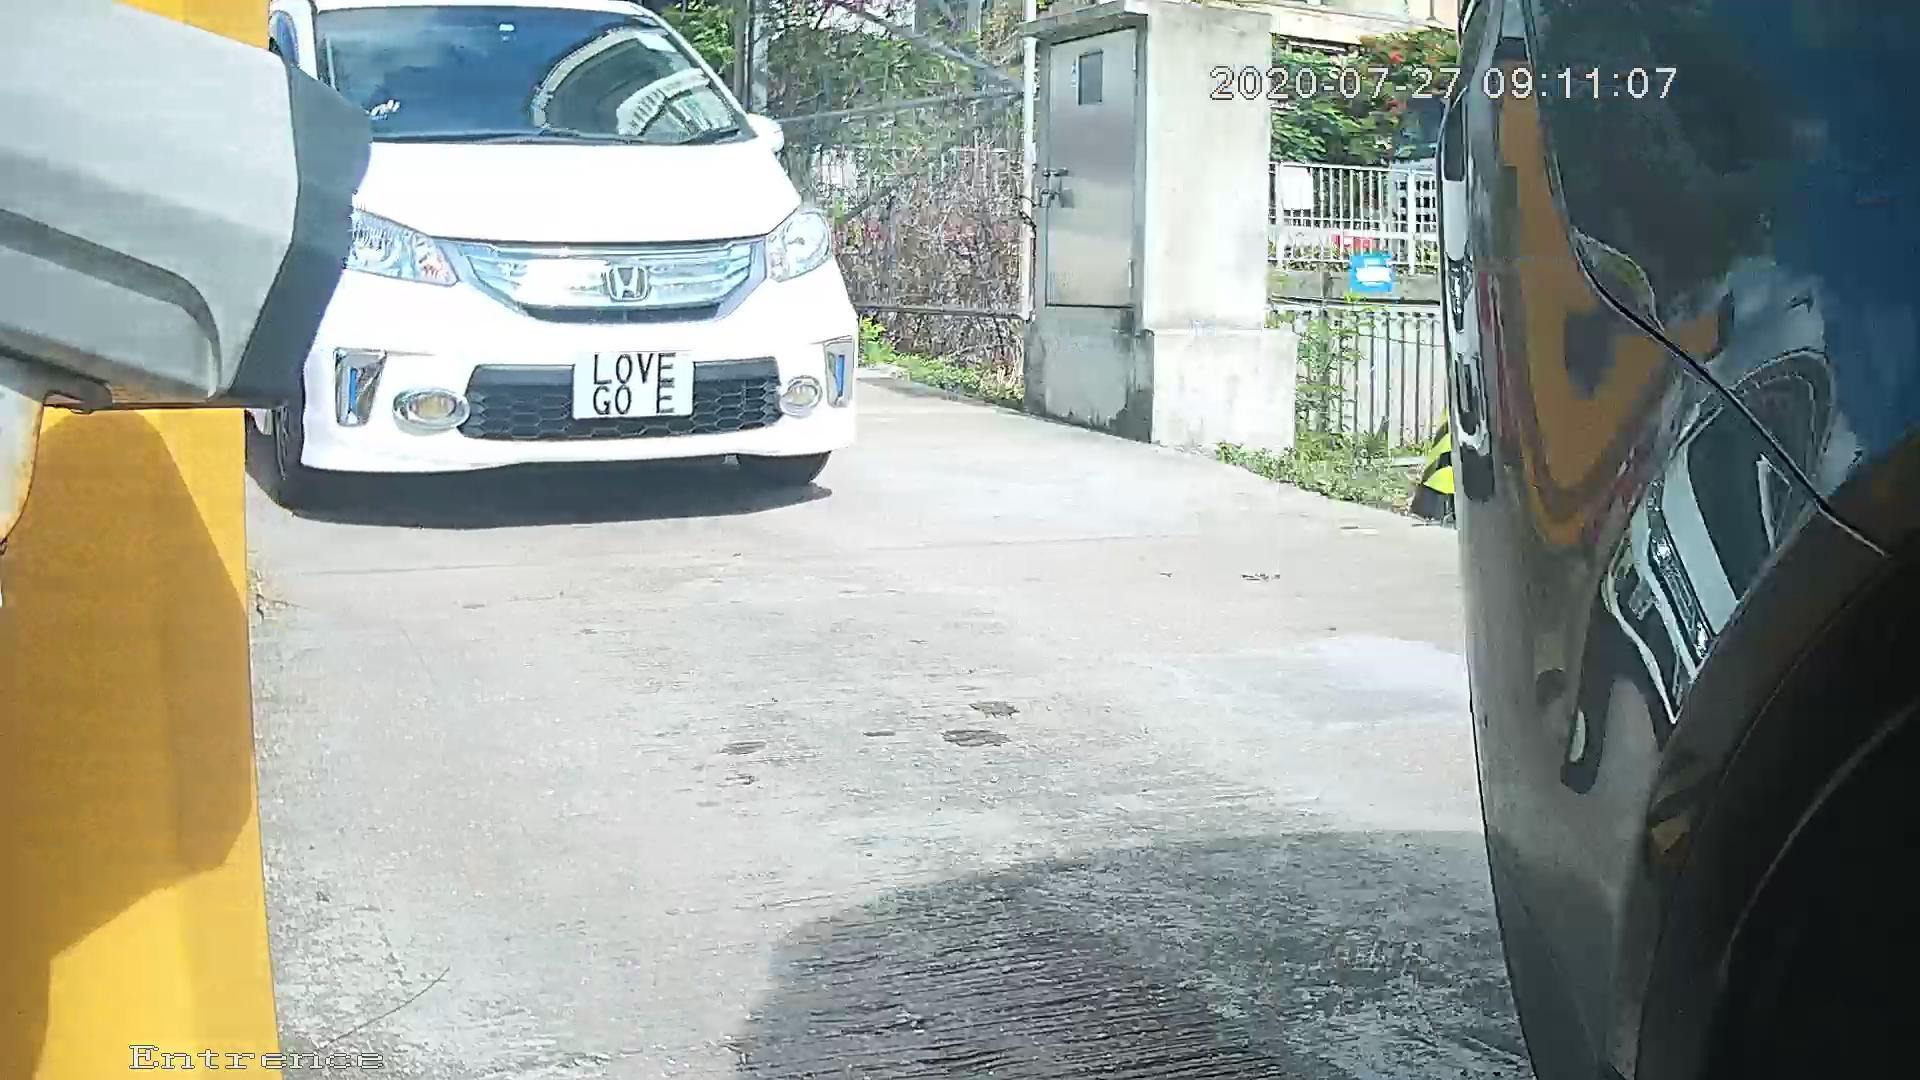License Plate: (558, 309, 686, 430)
